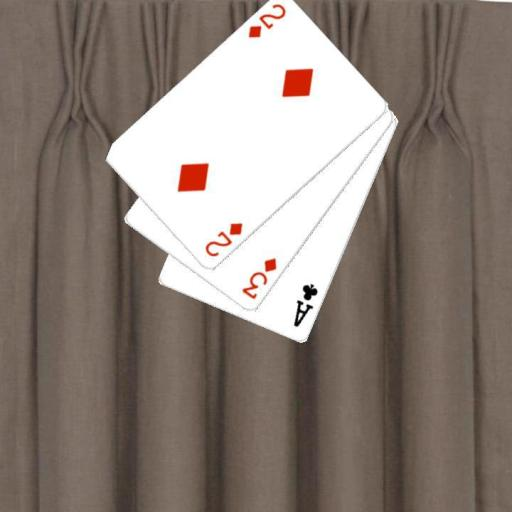2D: (245, 1, 288, 41), (201, 220, 245, 259)
3D: (238, 255, 279, 302)
AC: (290, 281, 320, 329)
